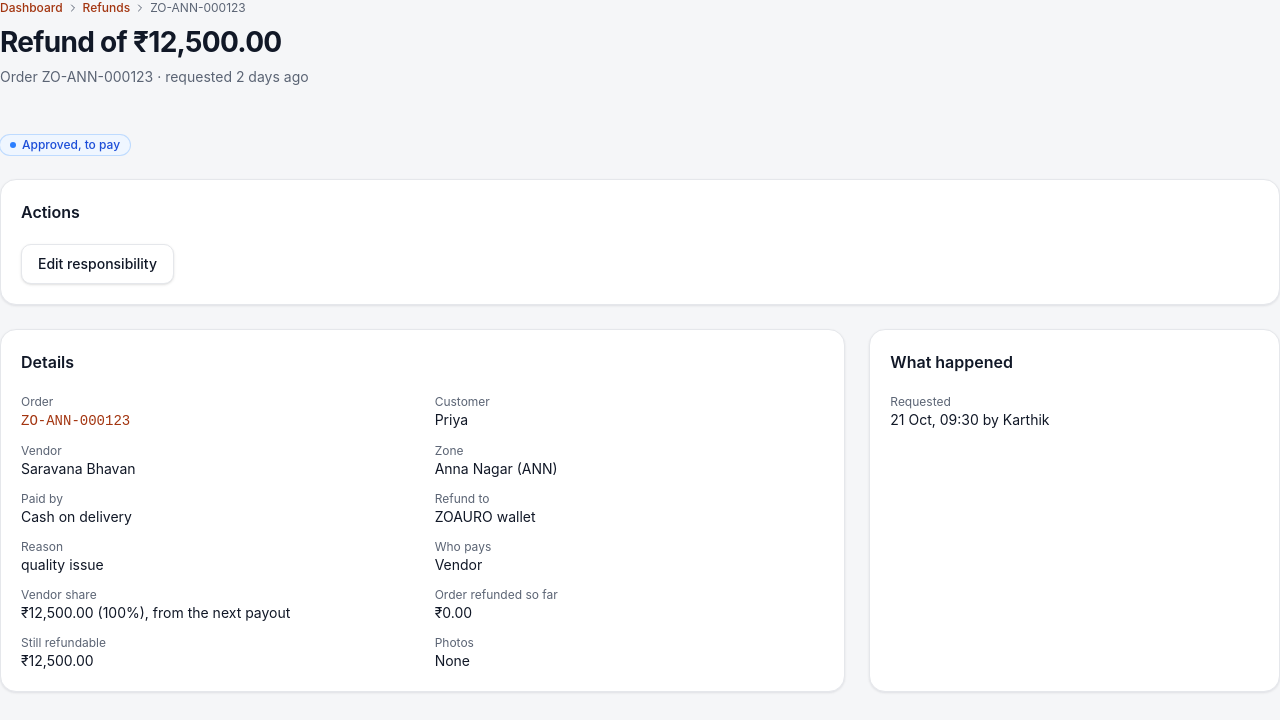
Test: Edit responsibility (D204) › a paid payout for the period is explained in the dialog
This screenshot has width=1280, height=720.
Click the button "Edit responsibility" at [98, 264], box [21, 244, 174, 284]
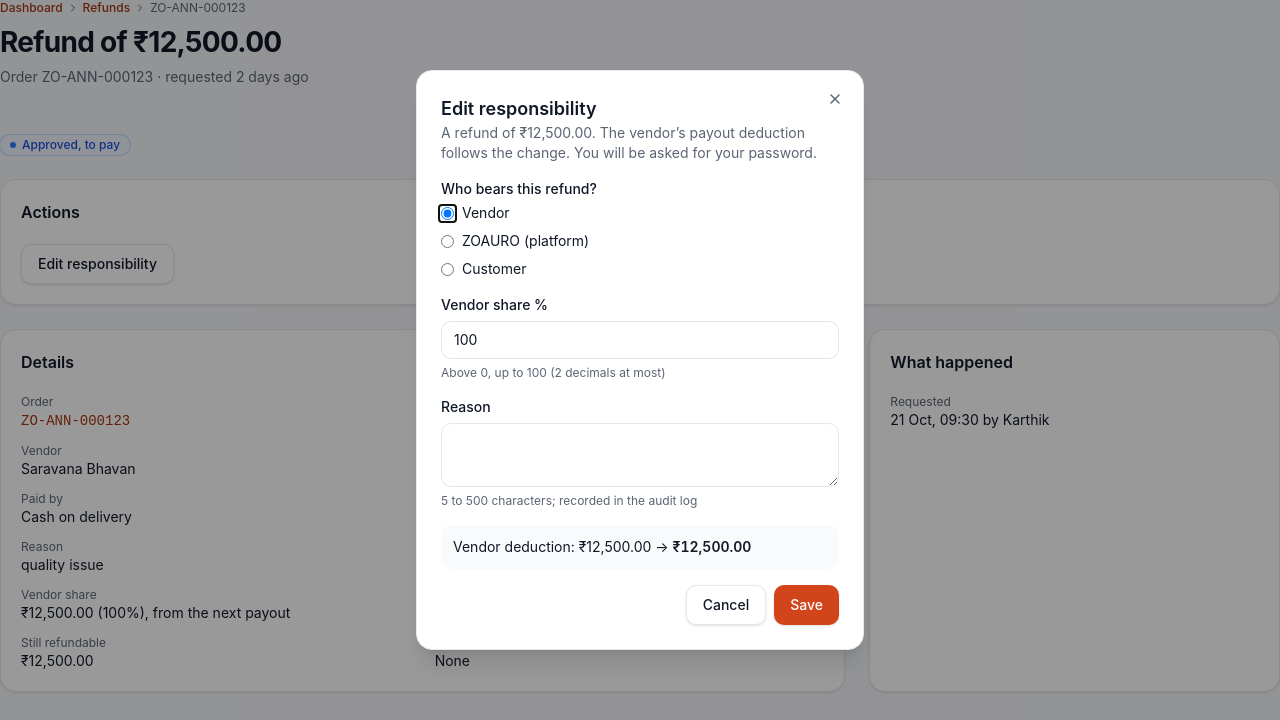
Type "The vendor sent the wrong dish" into the text box labelled "Reason" at [640, 455], box [441, 423, 839, 487]
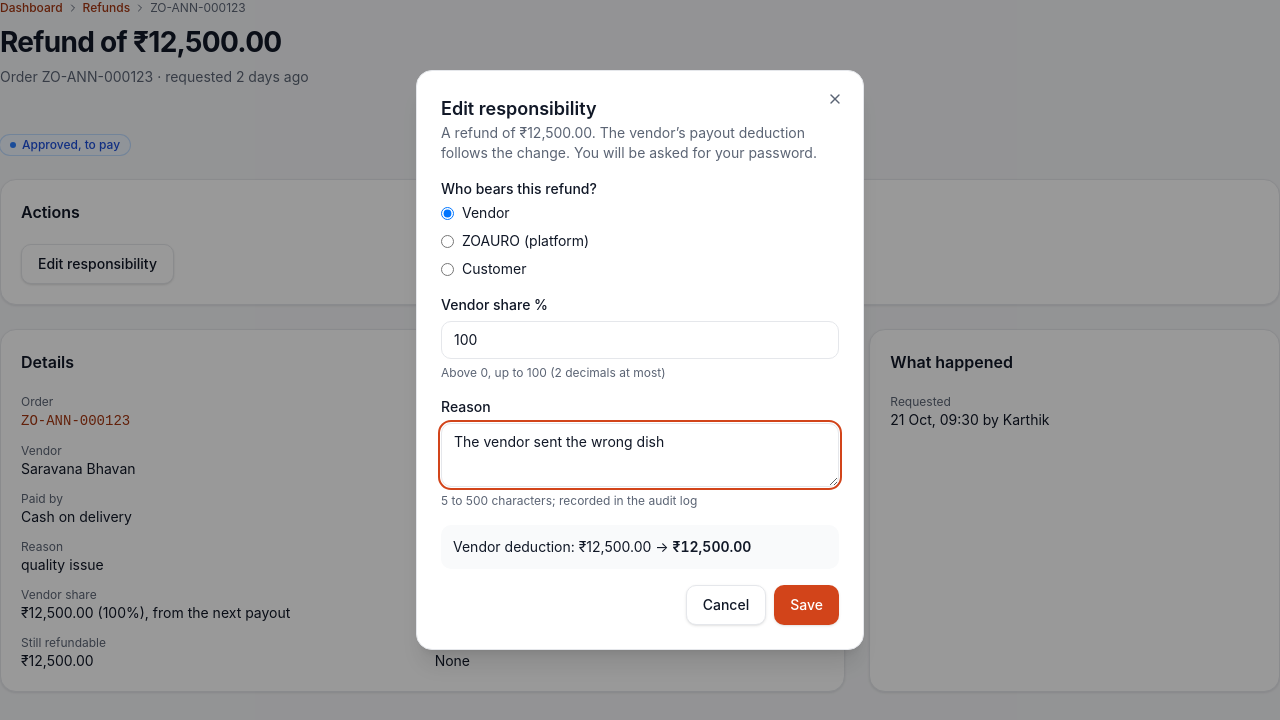
Click the button "Save" at [807, 605], box [774, 585, 839, 625]
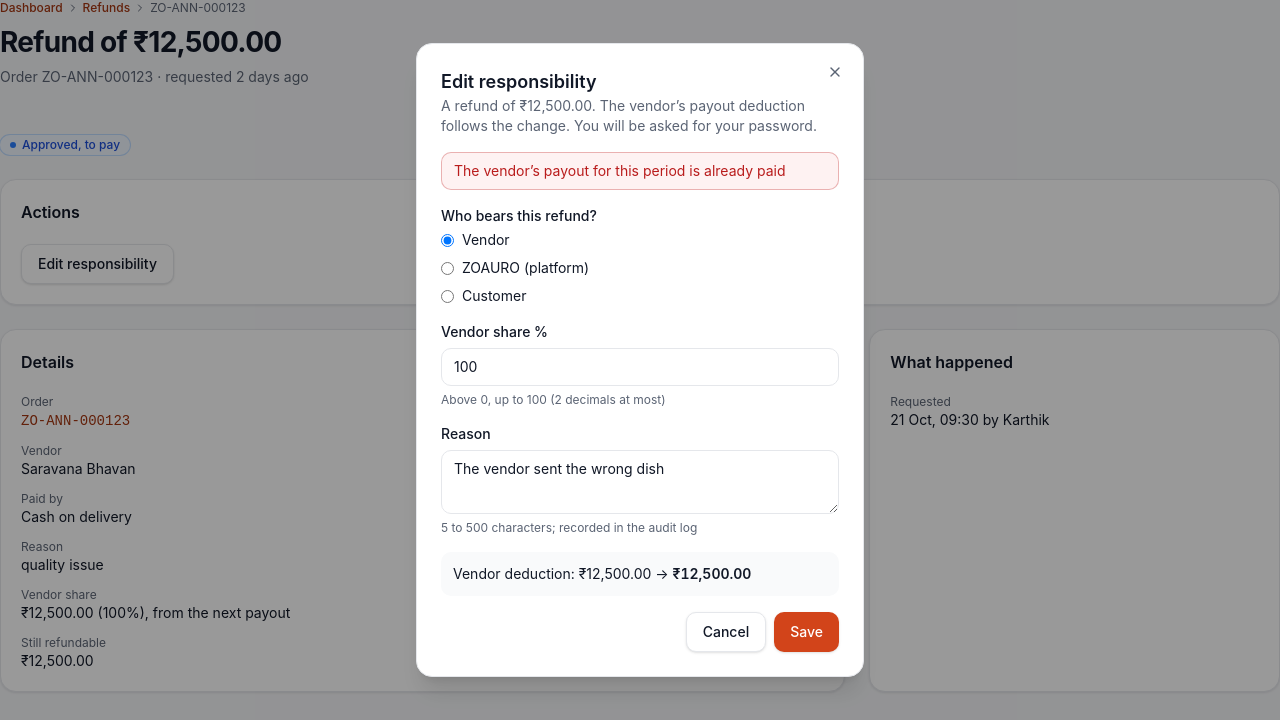
Now the text "The vendor’s payout for this period is already paid" is shown, box [441, 152, 839, 190]
